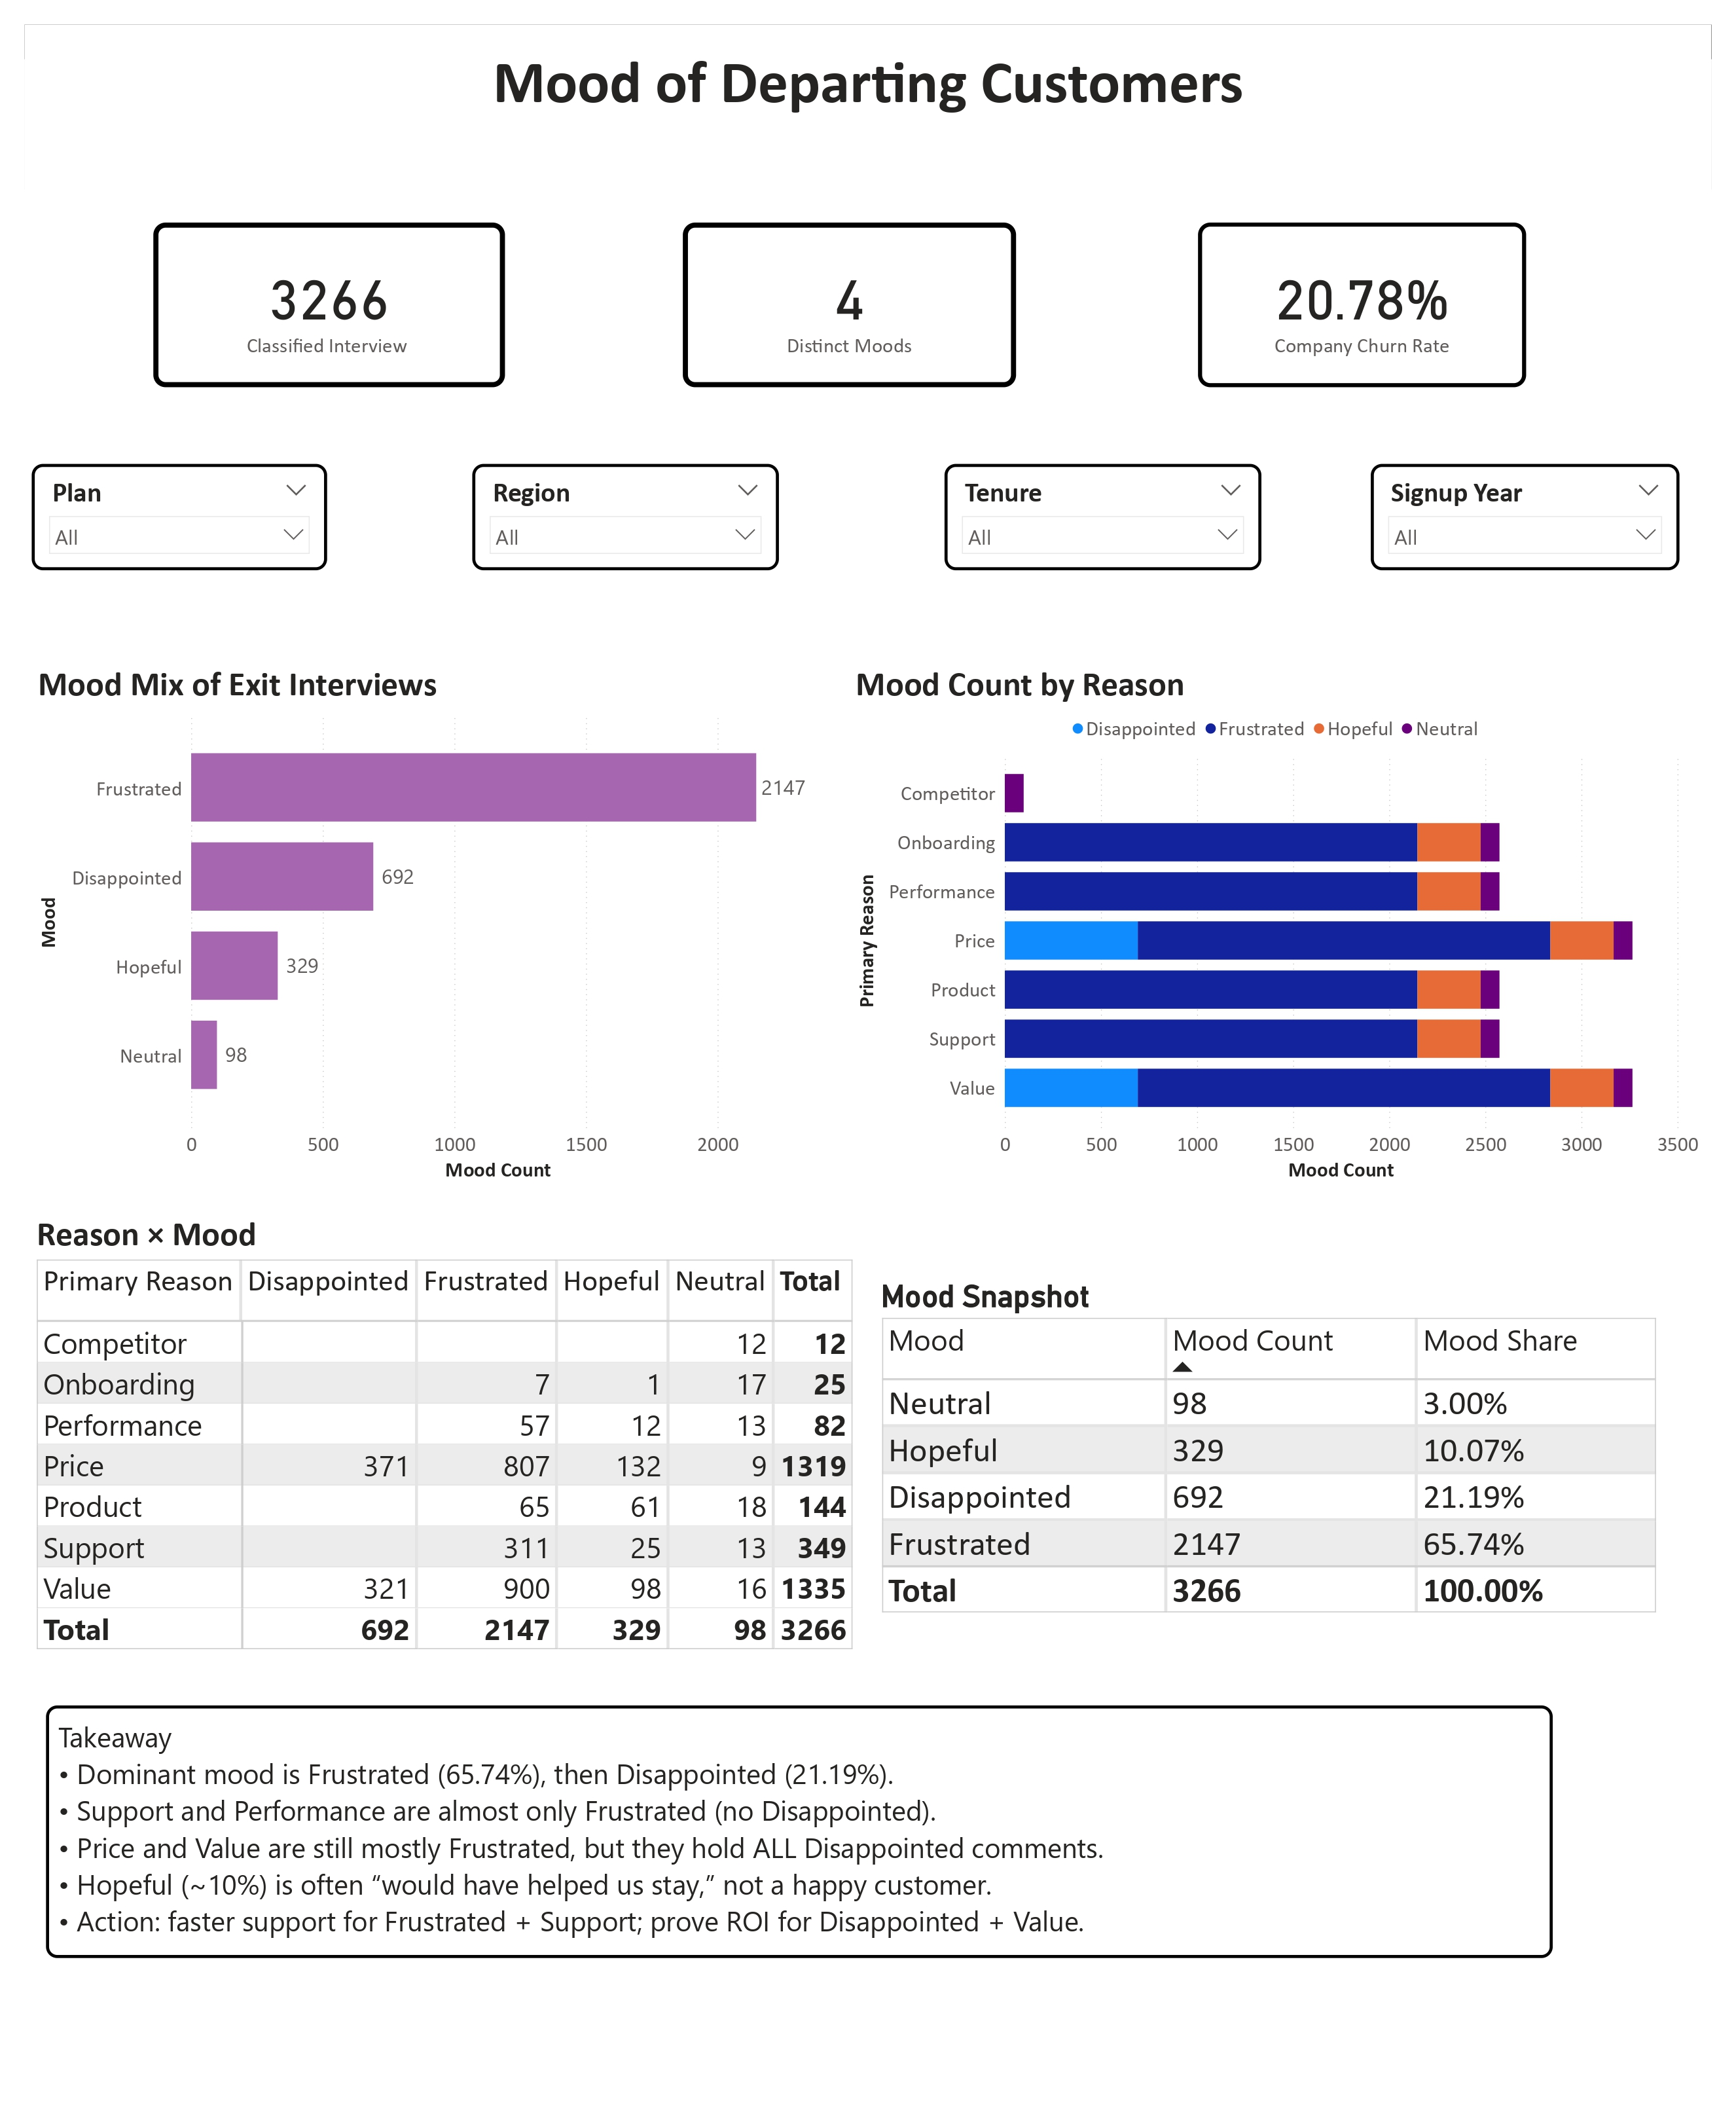

This screenshot's page, from the dashboard's own definition file:
{"tool":"powerbi","page":{"name":"Page 4","canvas":[1650,2020],"ordinal":3},"visuals":[{"type":"textbox","box":[452.9,13.8,802.2,96.7],"z":0},{"type":"card","fields":{"Values":["interviews_classified.Classified Interview Count"]},"box":[126.2,193.4,344.3,160.7],"z":1000},{"type":"card","fields":{"Values":["interviews_classified.Distinct Moods"]},"box":[644.3,193.4,326.2,160.7],"z":2000},{"type":"slicer","fields":{"Values":["customers.Subscription_Type"]},"box":[6.9,429.2,288.9,104.2],"z":3000},{"type":"slicer","title":"Region","fields":{"Values":["customers.Region"]},"box":[437.5,429.2,300,104.2],"z":4000},{"type":"slicer","fields":{"Values":["customers.Tenure_Group"]},"box":[900,429.2,309.7,104.2],"z":5000},{"type":"slicer","fields":{"Values":["customers.Signup_Year"]},"box":[1316.7,429.2,302.8,104.2],"z":6000},{"type":"clusteredBarChart","title":"Mood Mix of Exit Interviews","fields":{"Category":["interviews_classified.mood"],"Y":["interviews_classified.Mood Count"]},"box":[8.2,623,782,513.1],"z":7000},{"type":"pivotTable","title":"Reason × Mood","fields":{"Rows":["interviews_classified.primary_reason"],"Columns":["interviews_classified.mood"],"Values":["interviews_classified.Interview Rows"]},"box":[6.9,1161.2,825.7,462.6],"z":8000},{"type":"barChart","title":"Mood Count by  Reason ","fields":{"Category":["interviews_classified.primary_reason"],"Y":["interviews_classified.Mood Count"],"Series":["interviews_classified.mood"]},"box":[808.2,623,834.4,513.1],"z":9000},{"type":"tableEx","title":"Mood Snapshot","fields":{"Values":["interviews_classified.mood","interviews_classified.Mood Count","interviews_classified.Mood Share"]},"box":[832.6,1224.7,769.1,367.3],"z":10000},{"type":"textbox","box":[20.7,1643.1,1474.6,247.2],"z":11000},{"type":"card","fields":{"Values":["customers.Company Churn Rate"]},"box":[1147.5,193.4,321.3,160.7],"z":12000}]}

Visuals, with their boxes on the page's 1650x2020 design canvas (x1, y1, x2, y2). These are canvas units, not pixel positions in the 1736x2116 screenshot, which may show the page scaled, cropped or inside an application window:
textbox: (453,14,1255,110)
card - interviews_classified.Classified Interview Count: (126,193,470,354)
card - interviews_classified.Distinct Moods: (644,193,970,354)
slicer - customers.Subscription_Type: (7,429,296,533)
"Region" slicer: (438,429,738,533)
slicer - customers.Tenure_Group: (900,429,1210,533)
slicer - customers.Signup_Year: (1317,429,1620,533)
"Mood Mix of Exit Interviews" clusteredBarChart: (8,623,790,1136)
"Reason × Mood" pivotTable: (7,1161,833,1624)
"Mood Count by  Reason " barChart: (808,623,1643,1136)
"Mood Snapshot" tableEx: (833,1225,1602,1592)
textbox: (21,1643,1495,1890)
card - customers.Company Churn Rate: (1148,193,1469,354)
